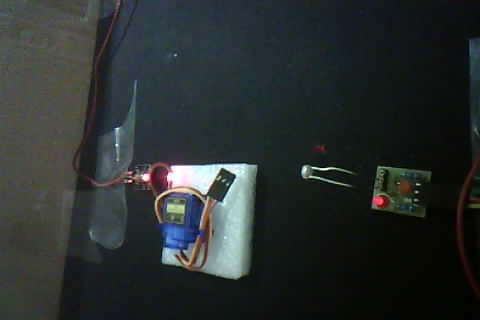motor: (150, 156, 257, 283)
